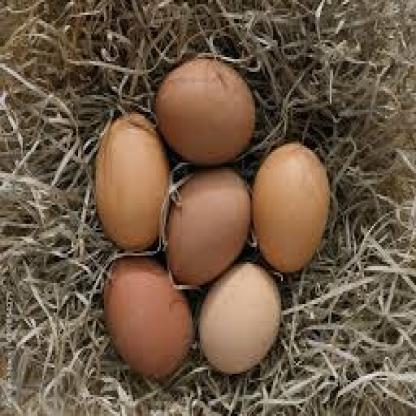egg: (102, 258, 196, 384), (153, 54, 259, 164), (247, 140, 330, 276), (92, 110, 170, 254), (164, 167, 254, 288), (199, 261, 280, 378)
